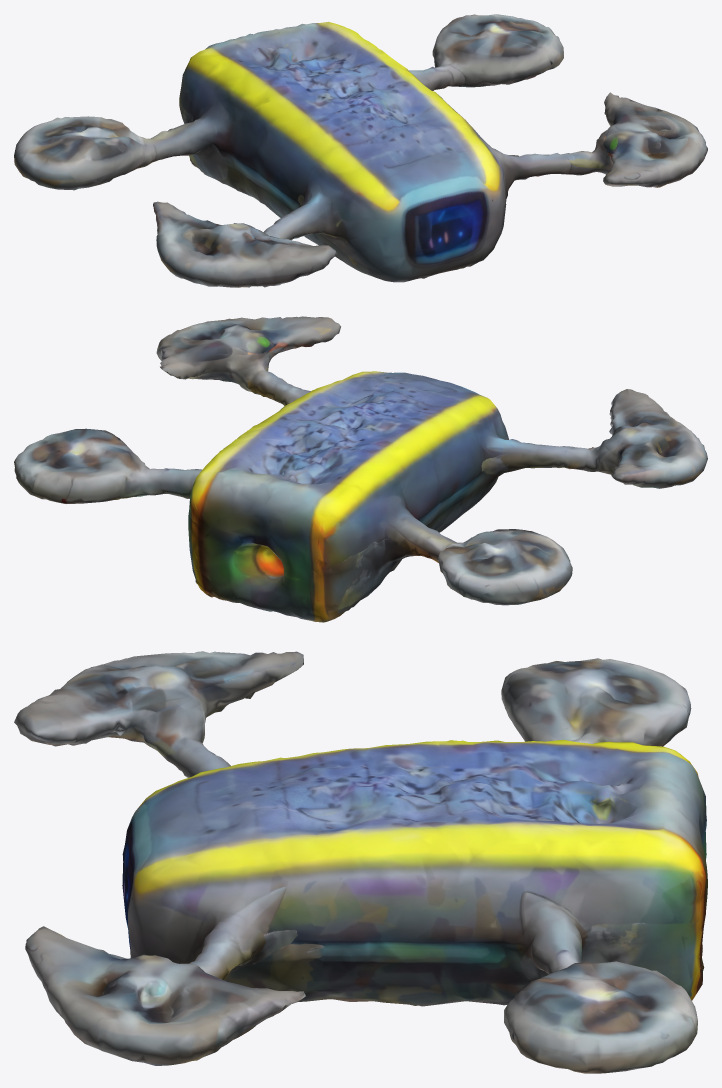
The picture shows the model from 3 angles, top to bottom: view 1: azimuth 30°, elevation 25°; view 2: azimuth 150°, elevation 25°; view 3: azimuth 270°, elevation 25°; orthographic projection. The views are drawn at different scales.
Size of the model in its own units: 1.2 by 0.2936 by 0.8934.
1 material, 1 textured.
